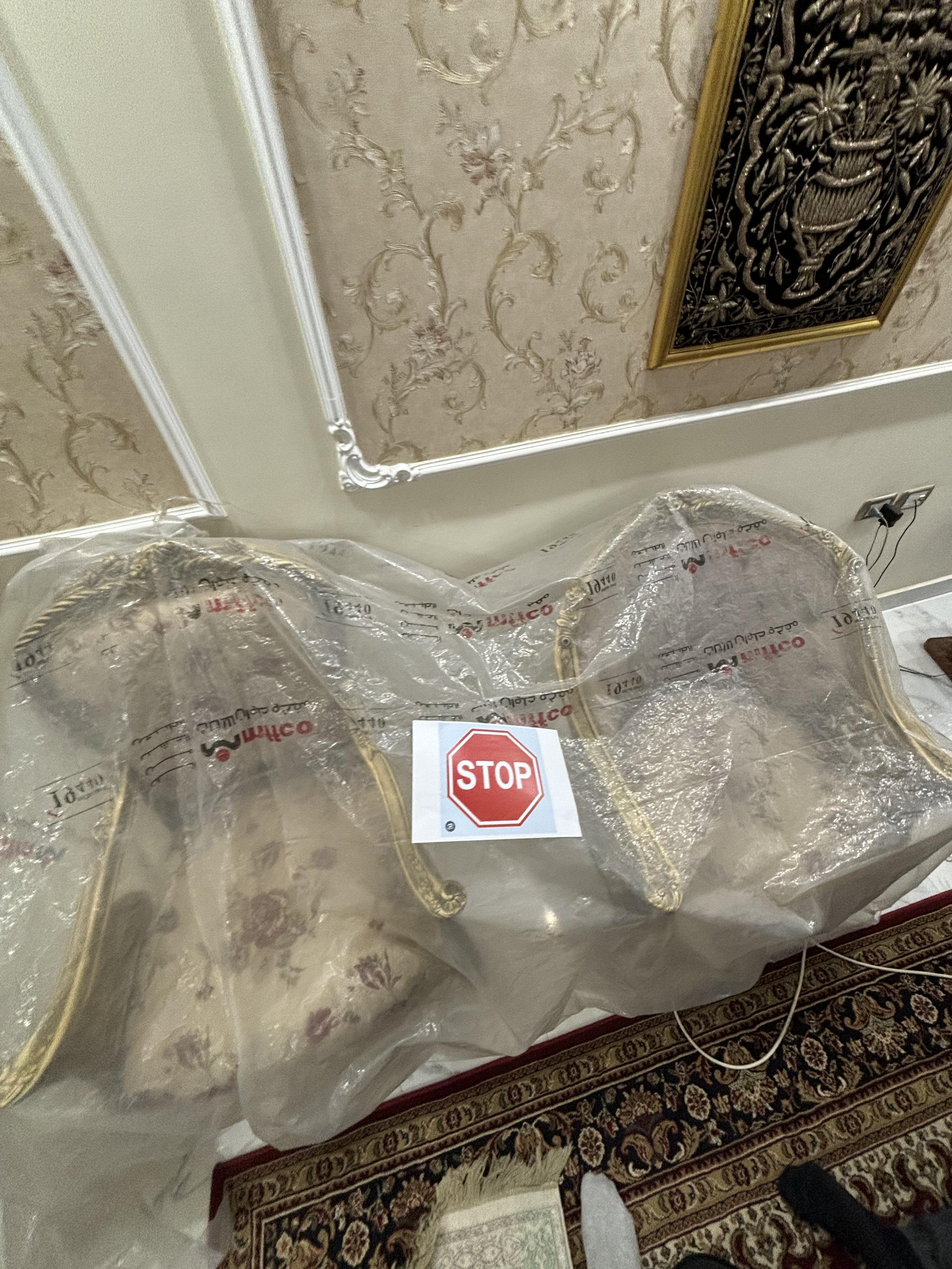Stop: (440, 731, 558, 833)
